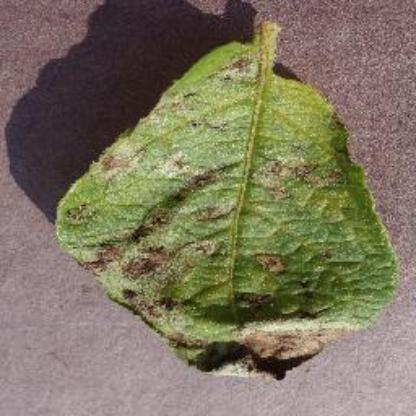Late-Blight: (56, 9, 398, 383)
